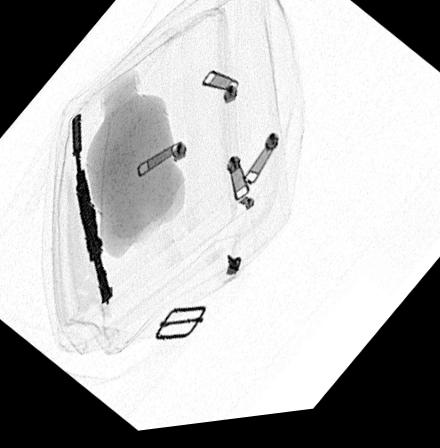Gun: (68, 111, 113, 308)
